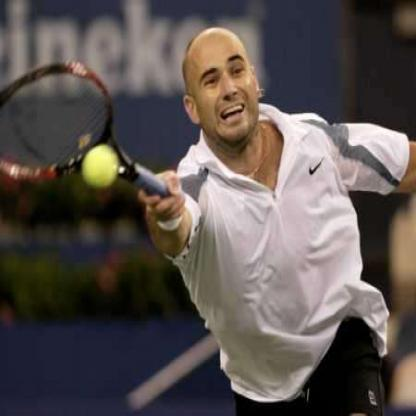face: (191, 27, 258, 147)
